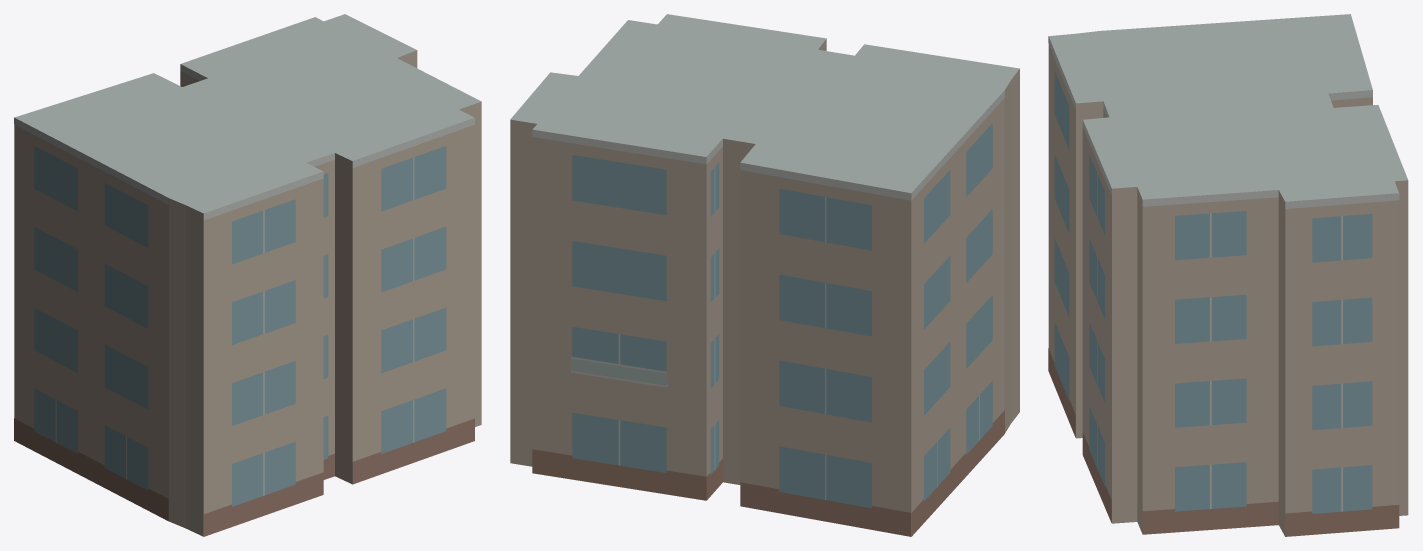
The model's file is survey-upis-32998839.glb.
The picture shows the model from 3 angles, left to right: view 1: azimuth 30°, elevation 25°; view 2: azimuth 150°, elevation 25°; view 3: azimuth 270°, elevation 25°; orthographic projection. The views are drawn at different scales.
Visible parts, largest first — view 1: survey-upis-32998839.tmp; view 2: survey-upis-32998839.tmp; view 3: survey-upis-32998839.tmp.
Part boxes in pixels (x1,y1,x2,y2): survey-upis-32998839.tmp: (14,14,481,536); survey-upis-32998839.tmp: (510,14,1019,536); survey-upis-32998839.tmp: (1048,14,1408,536).
Size of the model in its own units: 13.59 by 11.3 by 11.01.
